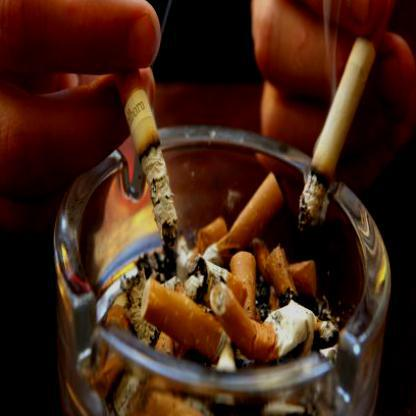cigarette: (290, 38, 376, 235), (116, 65, 184, 242), (214, 291, 312, 358)
